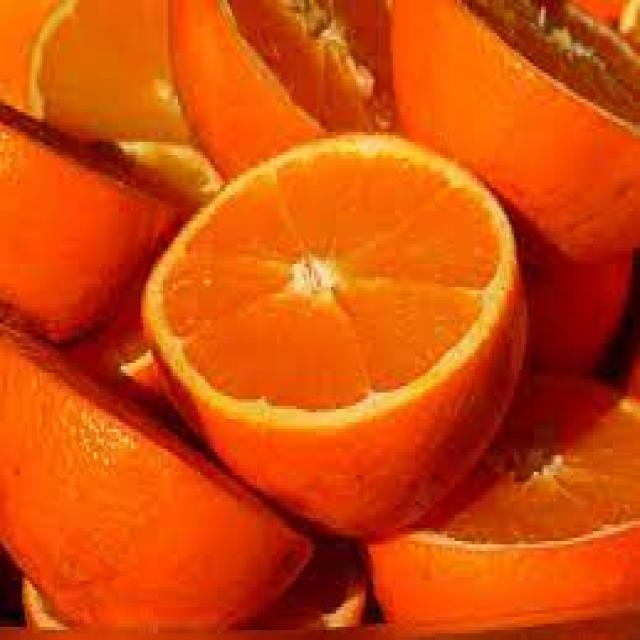orange: (135, 123, 532, 506)
